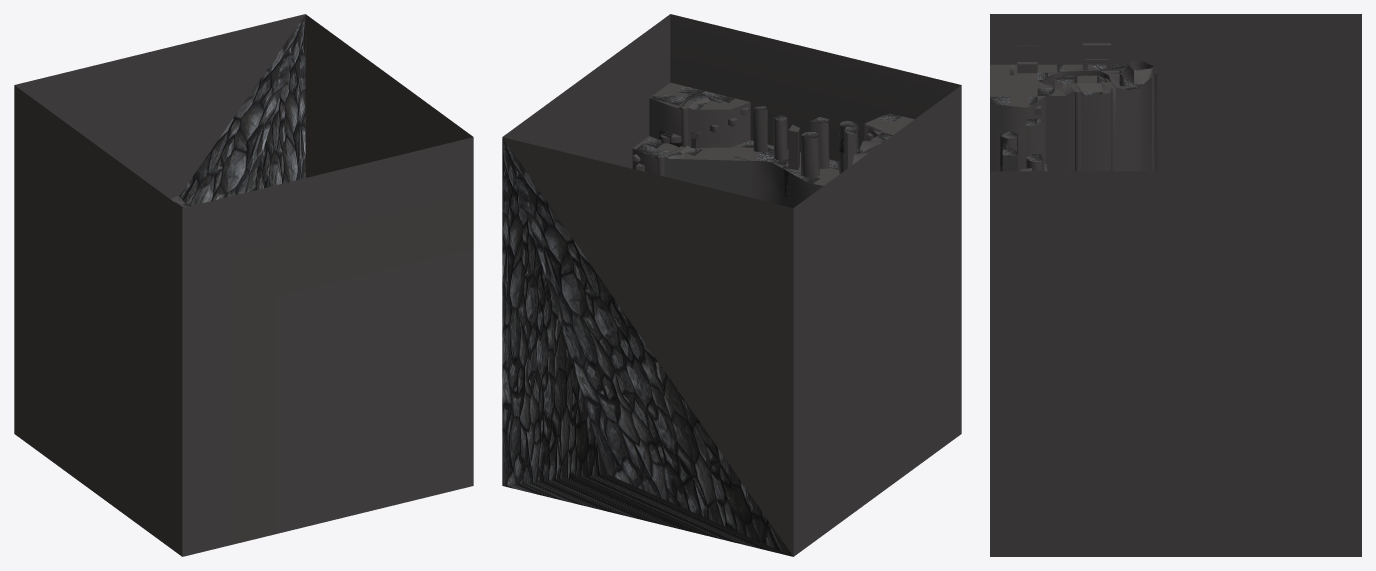
Rendered from PARKOURTRAINING_GROUNDFIX.fbx.
The picture shows the model from 3 angles, left to right: view 1: azimuth 30°, elevation 25°; view 2: azimuth 150°, elevation 25°; view 3: azimuth 270°, elevation 25°; orthographic projection. The views are drawn at different scales.
Visible parts, largest first — view 1: PhysicsBSP; view 2: PhysicsBSP; view 3: PhysicsBSP.
Boxes of the visible parts, bbox=[...] form: PhysicsBSP: bbox=[14, 14, 473, 556]; PhysicsBSP: bbox=[502, 14, 961, 556]; PhysicsBSP: bbox=[990, 14, 1361, 556].
Bounding box in the file's own units: 12800 × 14792 × 12800.
1 material, 1 textured.
